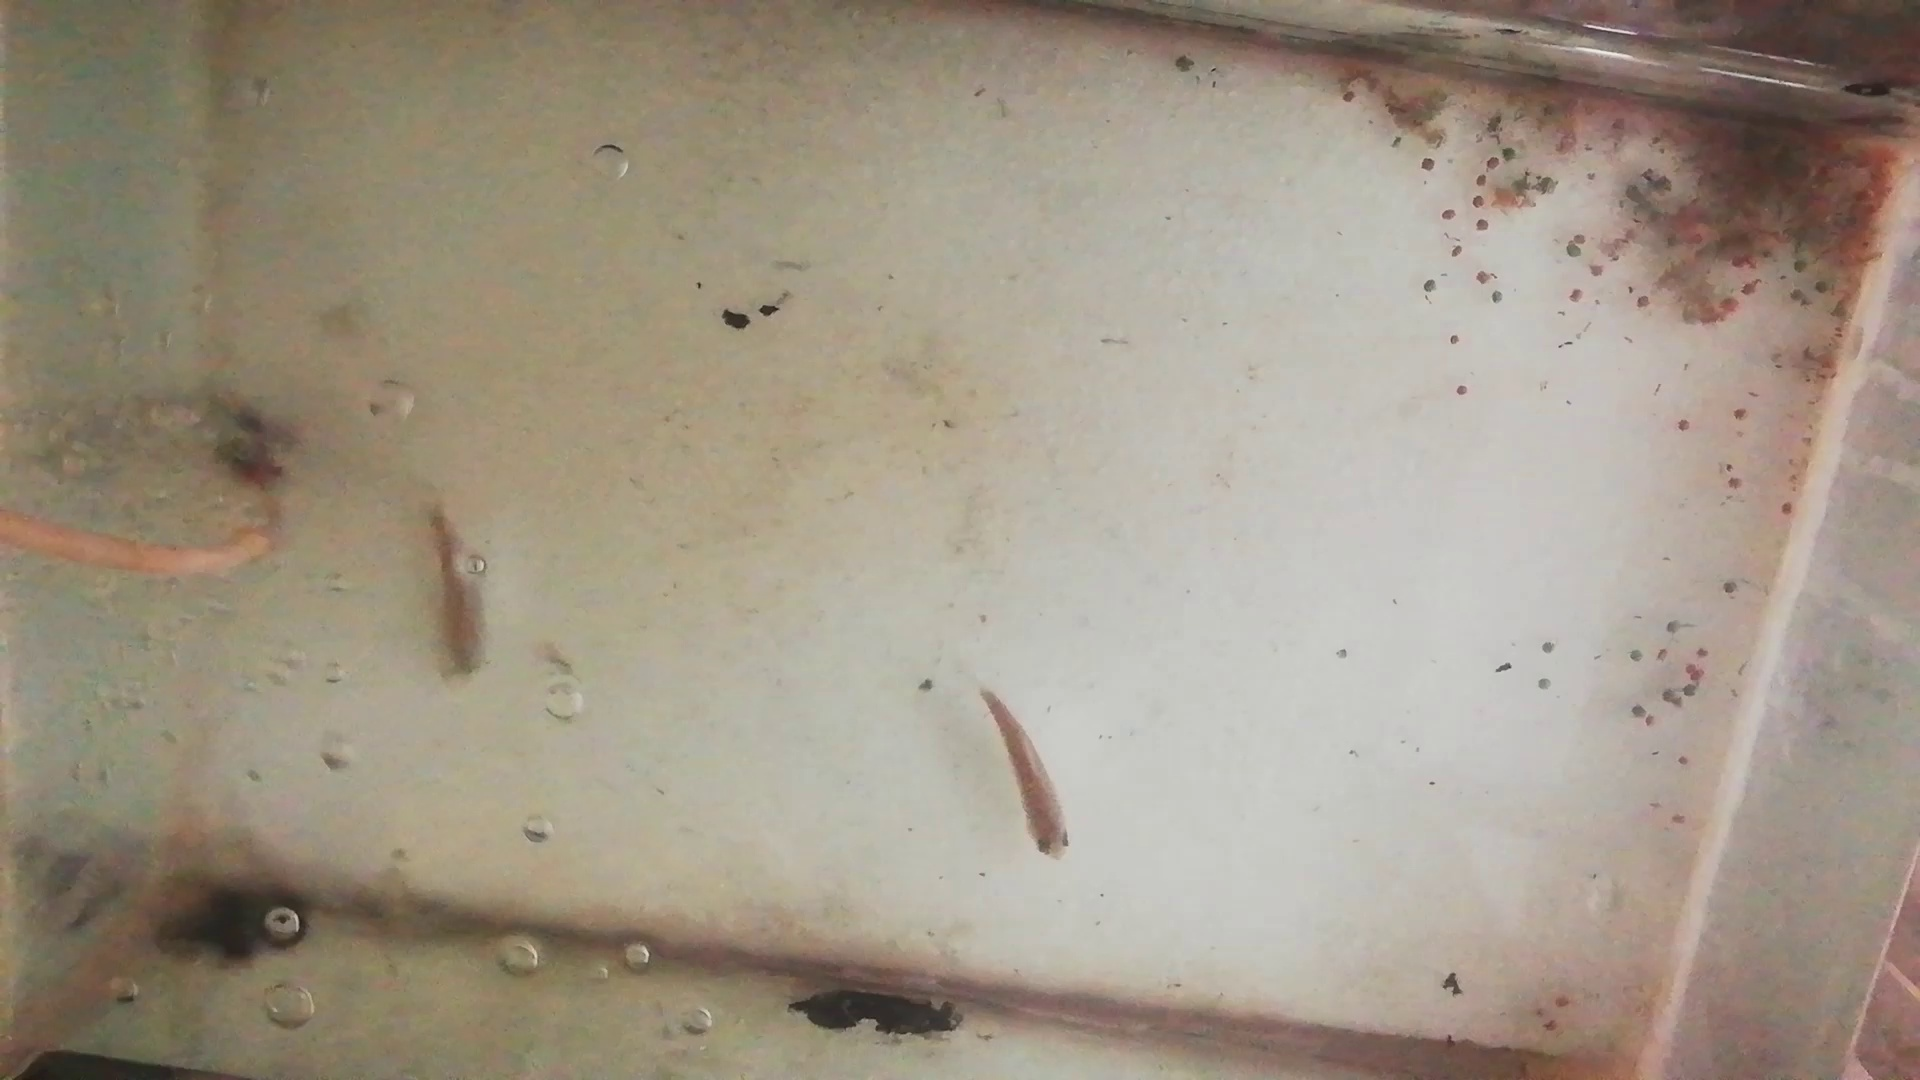fish: (980, 688, 1069, 866), (426, 510, 491, 686)
